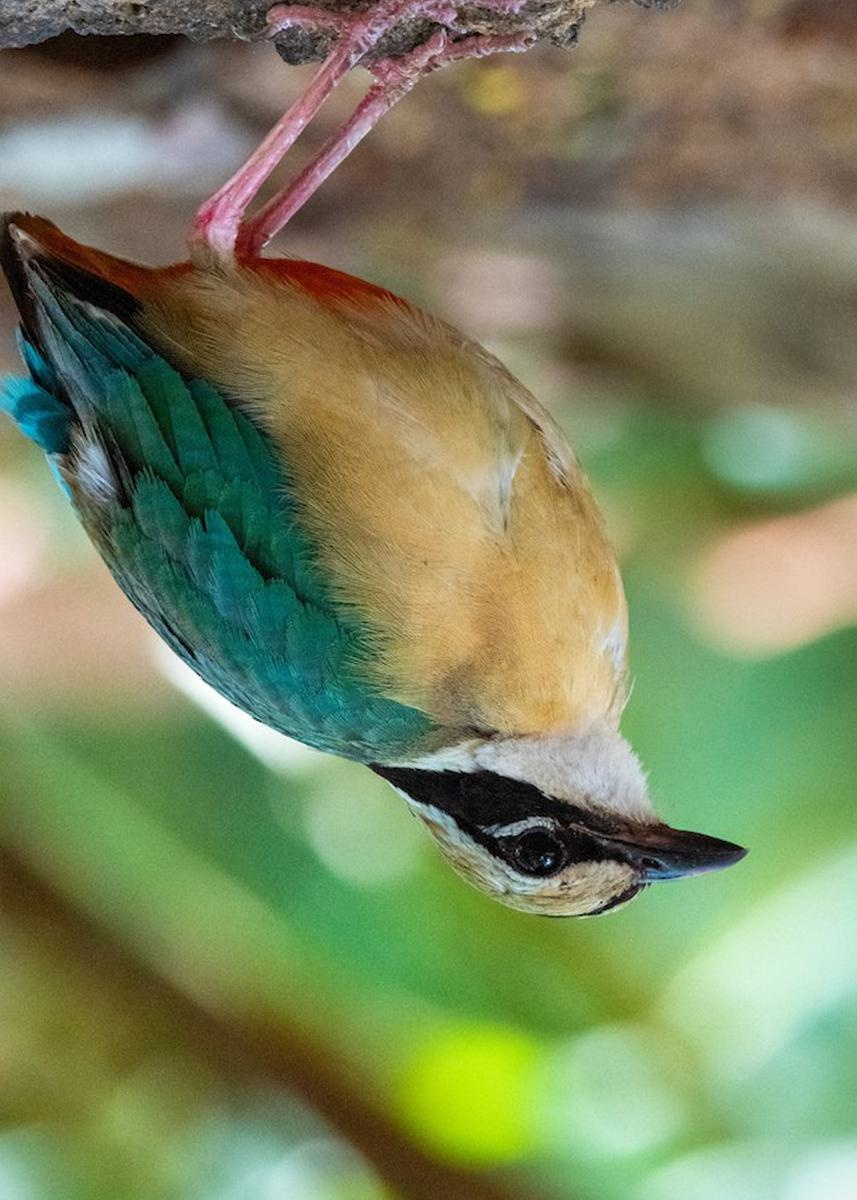pitta: (4, 127, 767, 937)
